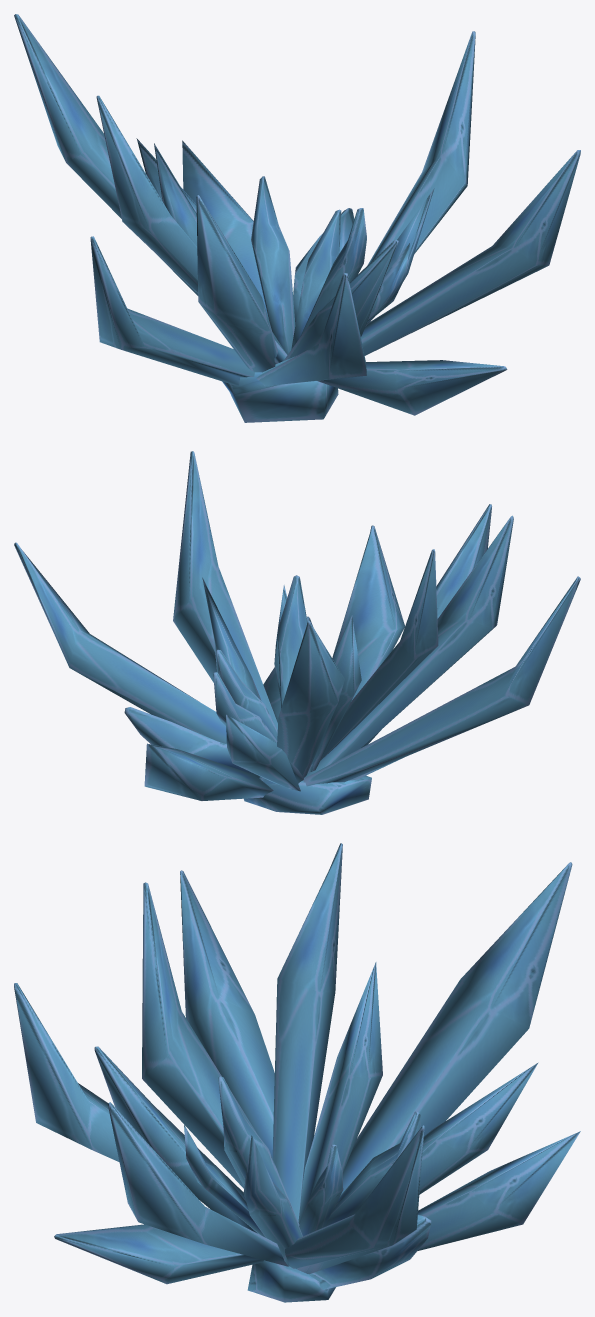
File: coral2.glb
The picture shows the model from 3 angles, top to bottom: view 1: azimuth 30°, elevation 25°; view 2: azimuth 150°, elevation 25°; view 3: azimuth 270°, elevation 25°; orthographic projection. The views are drawn at different scales.
Parts seen in each view (by area): view 1: node_id446; view 2: node_id446; view 3: node_id446.
Part boxes in pixels (x1=…): node_id446: x1=14, y1=14, x2=580, y2=422; node_id446: x1=14, y1=451, x2=580, y2=814; node_id446: x1=14, y1=843, x2=580, y2=1302.
Bounding box in the file's own units: 0.512 × 0.3283 × 0.4771.
1 material, 1 textured.
